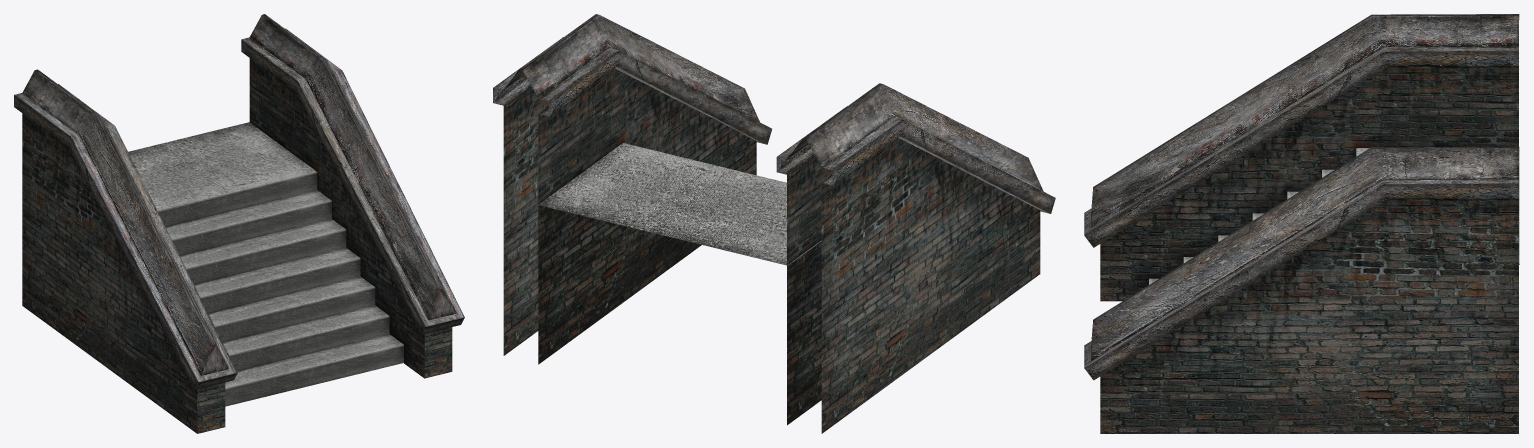
File: entrance.FBX
3 views of the same model, side by side, from view 1: azimuth 30°, elevation 25°; view 2: azimuth 150°, elevation 25°; view 3: azimuth 270°, elevation 25° (orthographic). The views are drawn at different scales.
Visible parts, largest first — view 1: entrance; view 2: entrance; view 3: entrance.
Boxes of the visible parts, x1=… form: entrance: x1=14, y1=14, x2=464, y2=433; entrance: x1=493, y1=14, x2=1055, y2=433; entrance: x1=1084, y1=14, x2=1519, y2=433.
Size of the model in its own units: 167 by 137 by 193.
